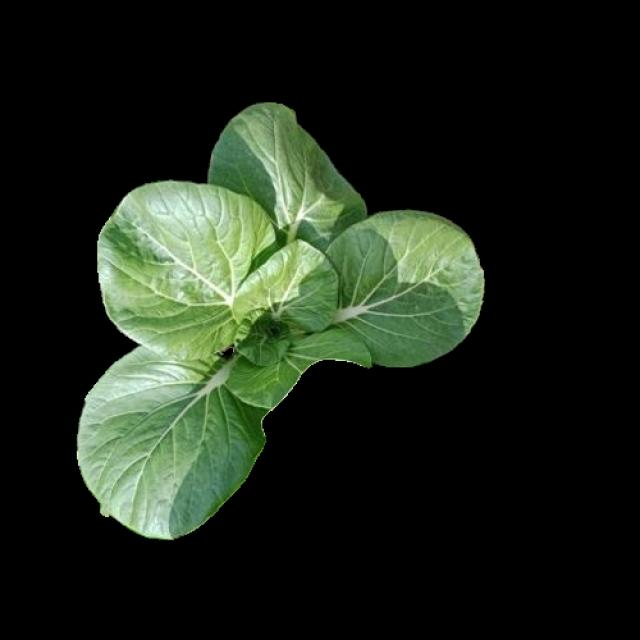healthy: (78, 129, 466, 535)
mature: (71, 103, 485, 538)
